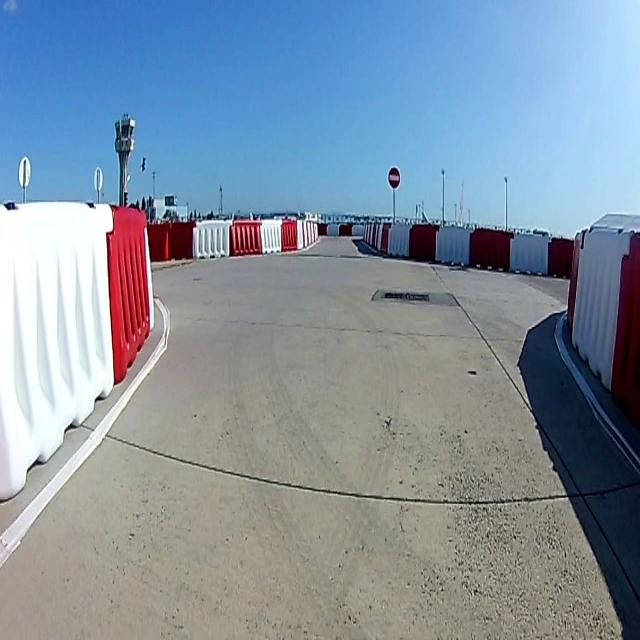girisyok: (388, 167, 400, 189)
